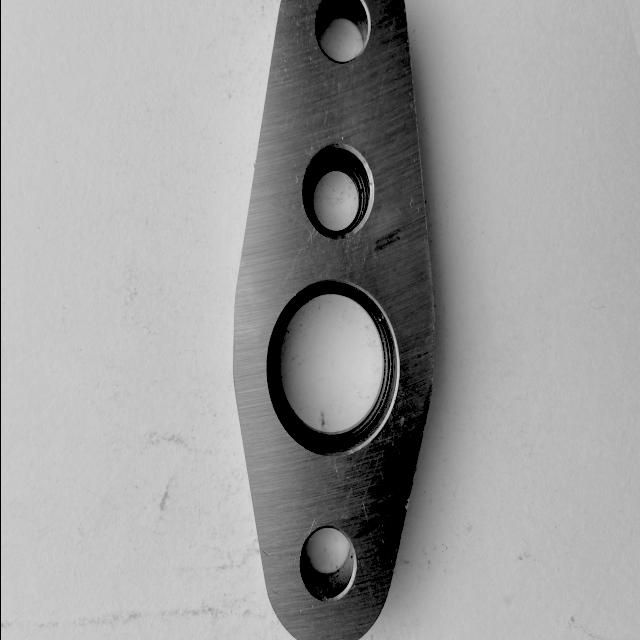chap: (403, 494, 409, 512), (261, 548, 271, 558), (338, 134, 346, 142), (361, 256, 366, 263)
